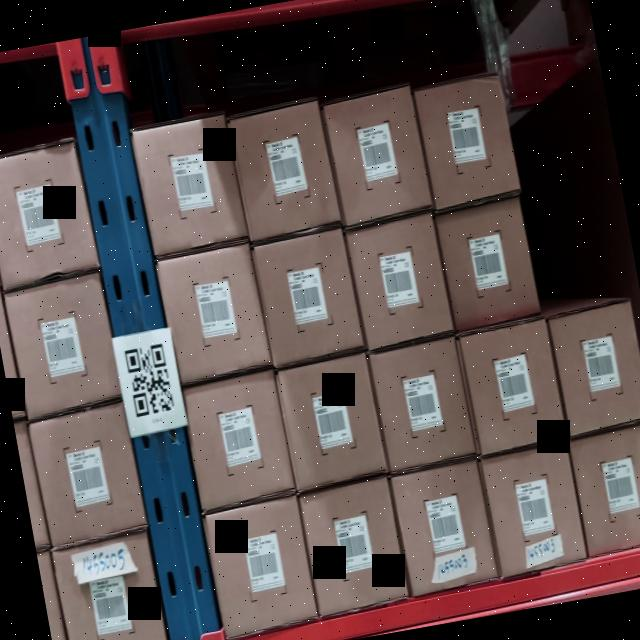box: (3, 274, 122, 415), (28, 408, 145, 546), (134, 114, 245, 254), (228, 103, 340, 239), (160, 248, 270, 382), (208, 498, 317, 629), (279, 354, 387, 486), (184, 378, 294, 506), (255, 232, 363, 362), (300, 482, 409, 609), (414, 75, 519, 206), (326, 92, 432, 220), (437, 200, 541, 329), (460, 325, 566, 449), (370, 341, 474, 466), (0, 146, 95, 282), (392, 466, 496, 589), (350, 219, 452, 344), (484, 450, 586, 571), (550, 304, 640, 431), (55, 539, 165, 640), (569, 425, 640, 553)
